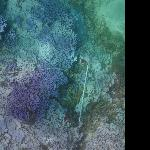dead: (3, 1, 125, 148)
